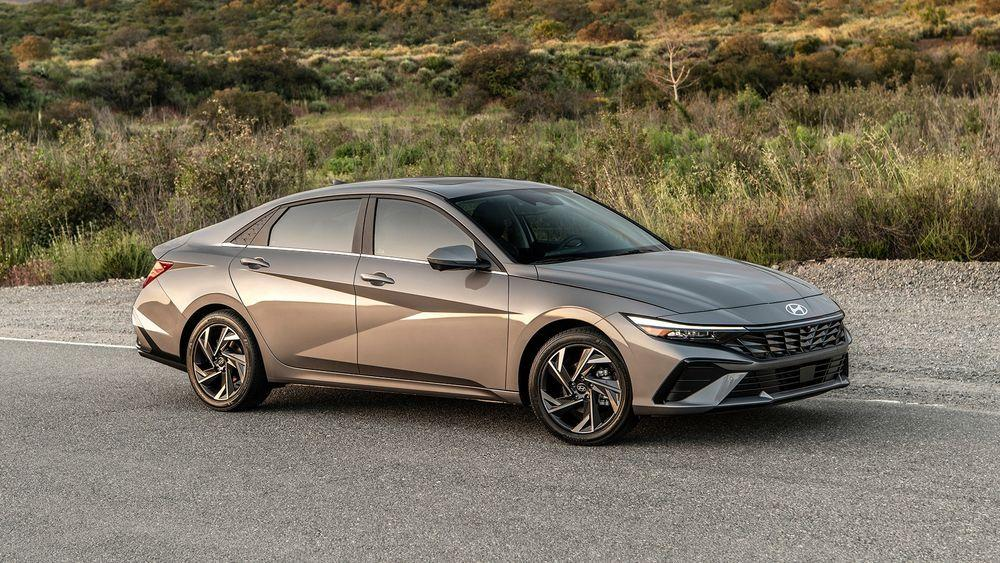car: (129, 172, 873, 461)
